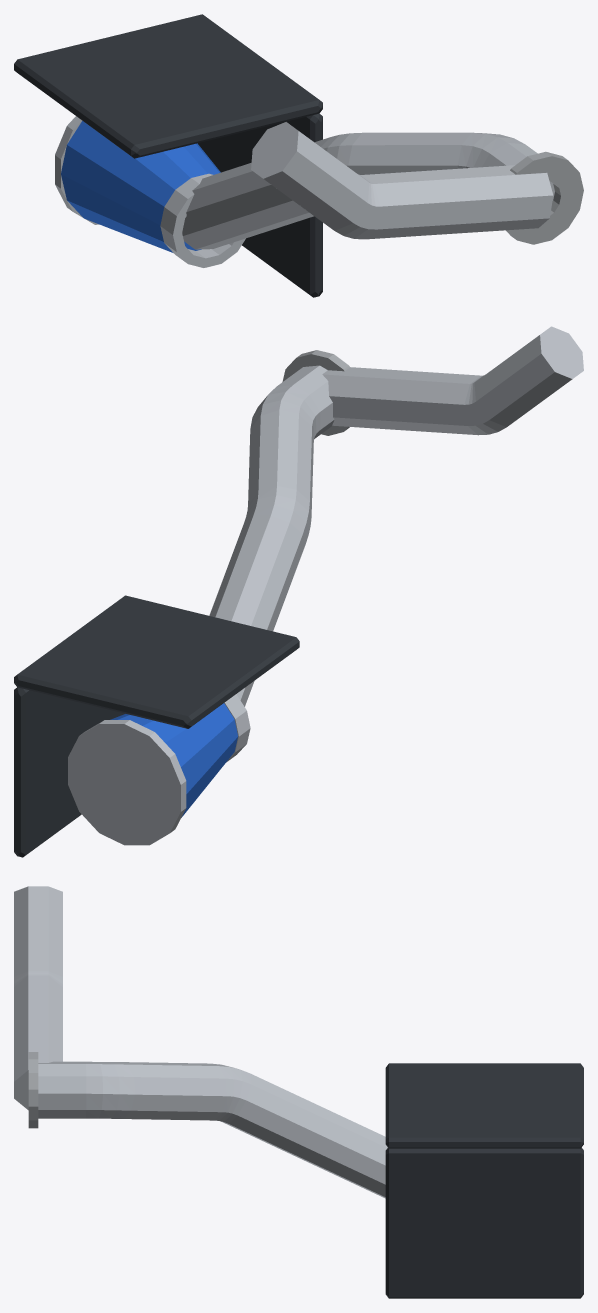
The model's file is vortex_r.glb.
3 views of the same model, one above another, from view 1: azimuth 30°, elevation 25°; view 2: azimuth 150°, elevation 25°; view 3: azimuth 270°, elevation 25° (orthographic). The views are drawn at different scales.
Parts seen in each view (by area): view 1: model; view 2: model; view 3: model.
Part boxes in pixels (box(x1,y1,x2,y2)): model: box(14, 14, 583, 297); model: box(14, 326, 583, 857); model: box(14, 886, 583, 1298).
Bounding box in the file's own units: 0.3674 × 0.4216 × 0.6896.
2 materials, 1 textured.
